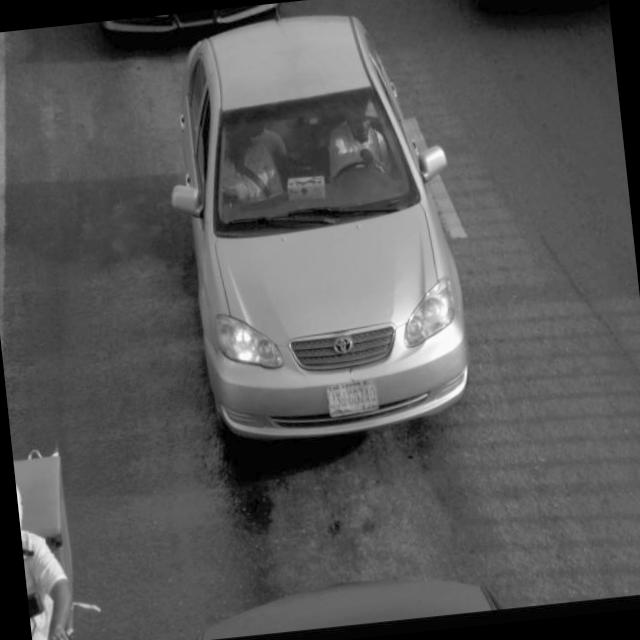person_without_seatbelt: (310, 84, 392, 190)
